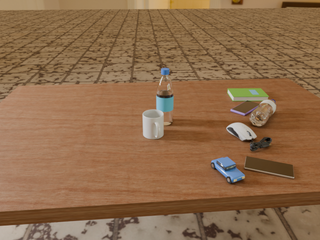book: (227, 88, 269, 101)
bottle: (157, 68, 173, 125), (249, 99, 276, 127)
cup: (143, 109, 164, 139)
mouse: (227, 123, 257, 142)
phone: (244, 156, 294, 179), (231, 100, 259, 116)
toy_car: (211, 157, 245, 183)
